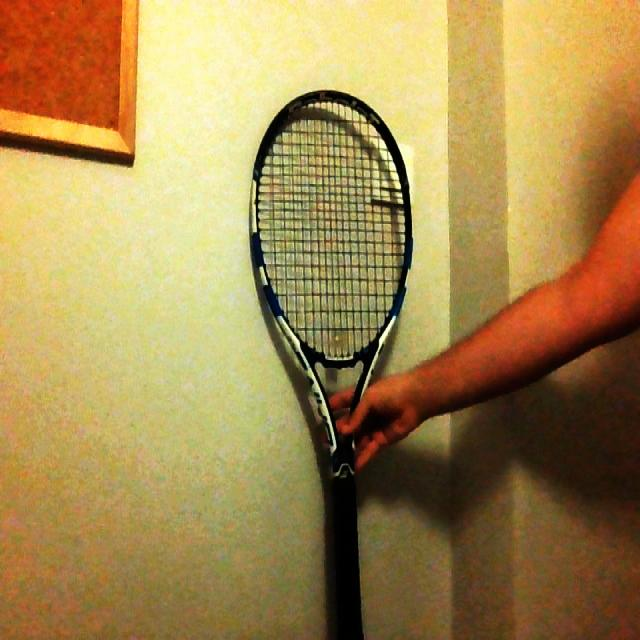TennisRacket: (251, 87, 414, 640)
